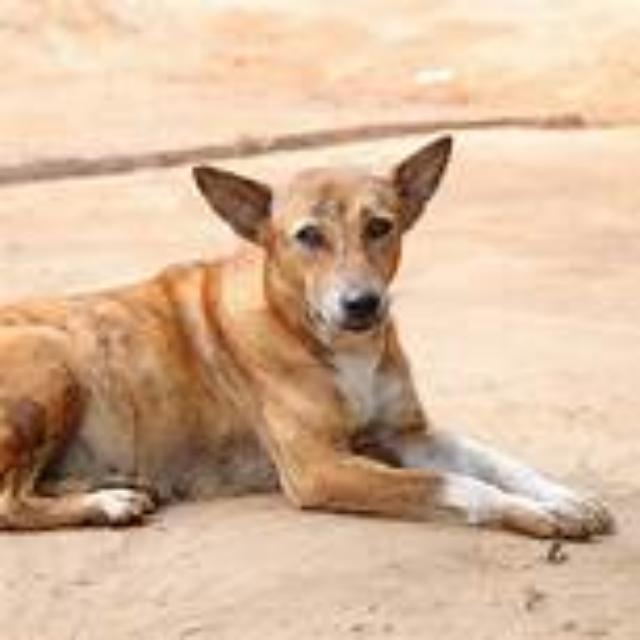dog: (0, 136, 616, 581)
